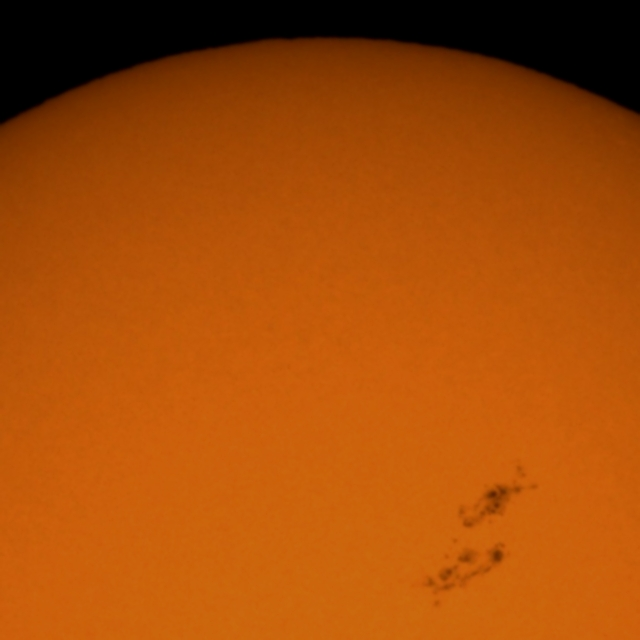sunspot: (425, 542, 496, 598), (454, 480, 514, 531)
